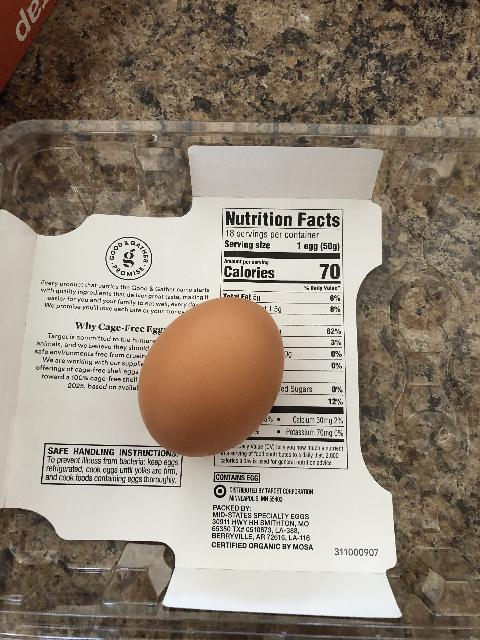Sano: (137, 297, 285, 459)
